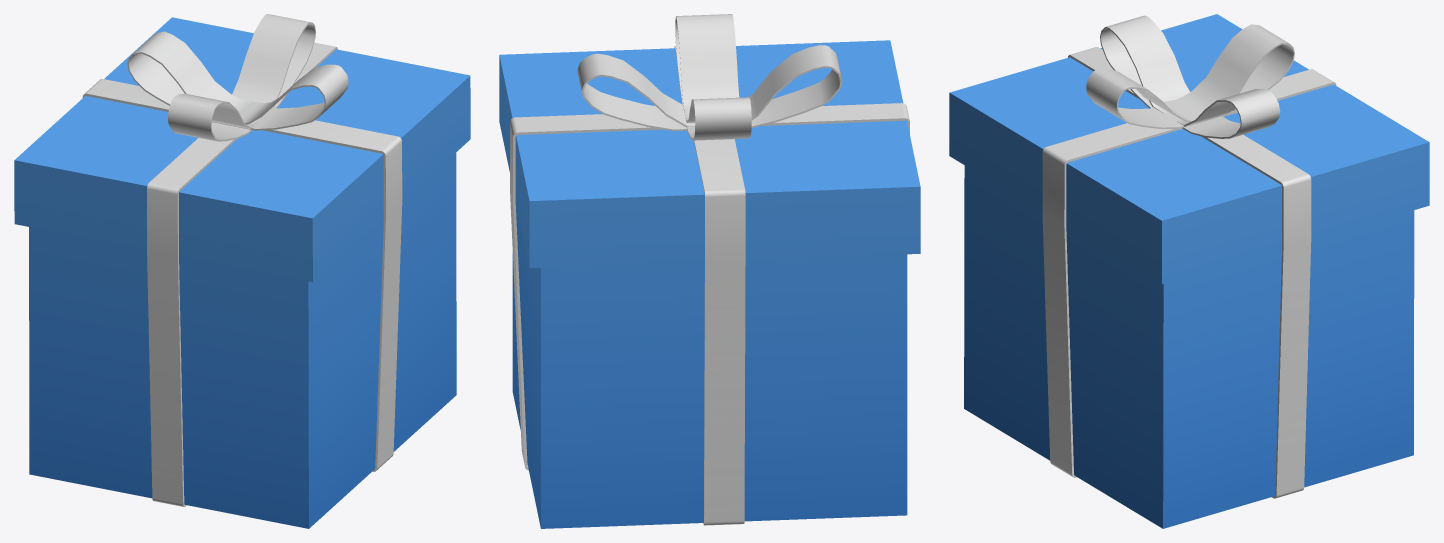
Rendered from Present_Only.fbx.
The picture shows the model from 3 angles, left to right: view 1: azimuth 30°, elevation 25°; view 2: azimuth 150°, elevation 25°; view 3: azimuth 270°, elevation 25°; orthographic projection. The views are drawn at different scales.
Visible parts, largest first — view 1: gifts_low.002; view 2: gifts_low.002; view 3: gifts_low.002.
Boxes of the visible parts, x1,y1,x2,y2 form: gifts_low.002: (14,14,470,528); gifts_low.002: (499,14,920,528); gifts_low.002: (949,14,1429,528).
Size of the model in its own units: 48.73 by 41.34 by 47.67.
